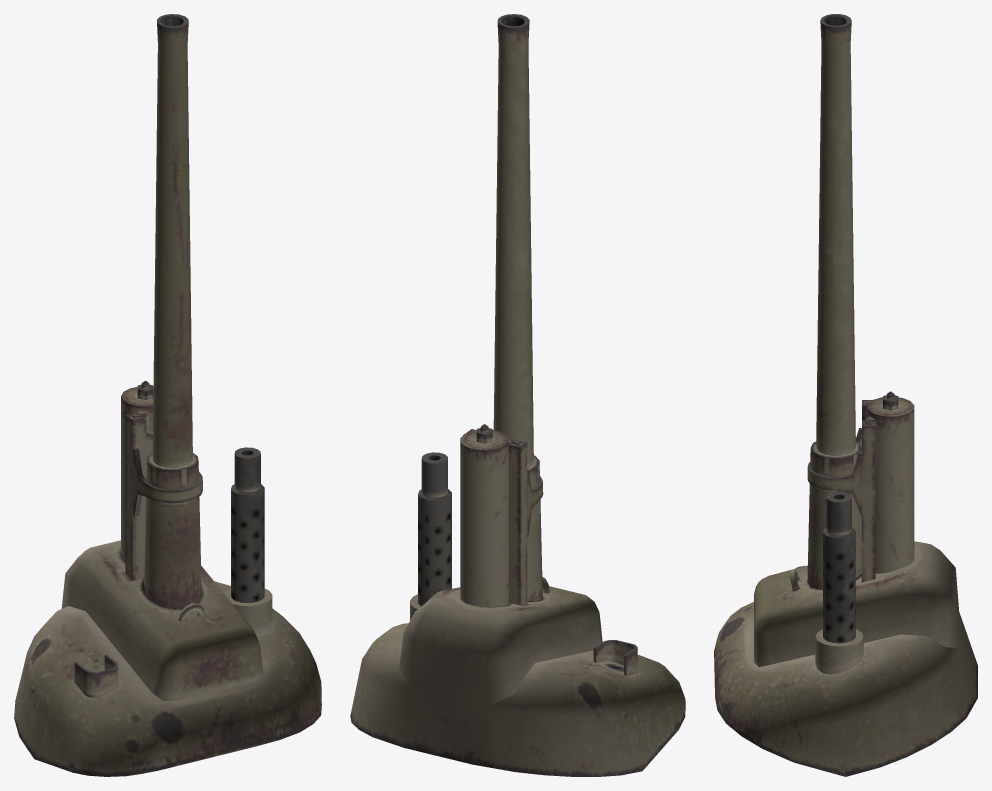
The model's file is Gun_04.glb.
3 views of the same model, side by side, from view 1: azimuth 30°, elevation 25°; view 2: azimuth 150°, elevation 25°; view 3: azimuth 270°, elevation 25° (orthographic). The views are drawn at different scales.
Visible parts, largest first — view 1: set_0_group_0; view 2: set_0_group_0; view 3: set_0_group_0.
Boxes of the visible parts, x1,y1,x2,y2 form: set_0_group_0: [14, 14, 321, 776]; set_0_group_0: [350, 14, 685, 776]; set_0_group_0: [714, 14, 977, 776].
Size of the model in its own units: 0.51 by 1.28 by 0.4421.
Materials: 1 (1 with a texture image).
